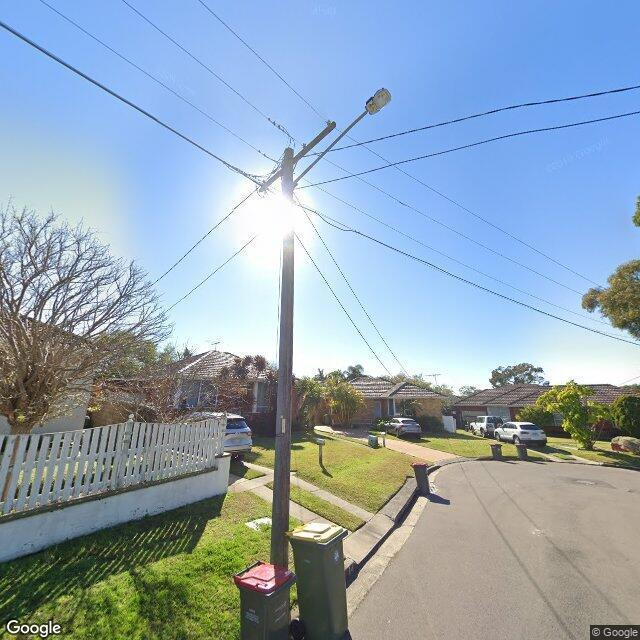crossarm: (258, 119, 337, 195)
streetlight: (292, 86, 393, 189)
timber-pole: (270, 146, 295, 569)
